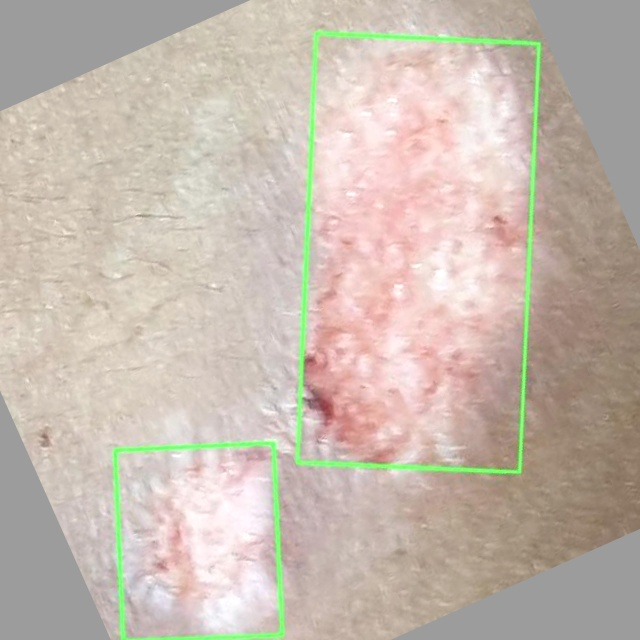Eczema: (297, 33, 540, 472), (116, 443, 283, 639)
